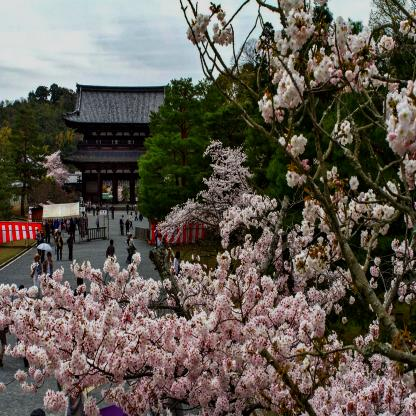Someiyoshino: (0, 0, 416, 415), (153, 136, 270, 247), (40, 149, 70, 187)
